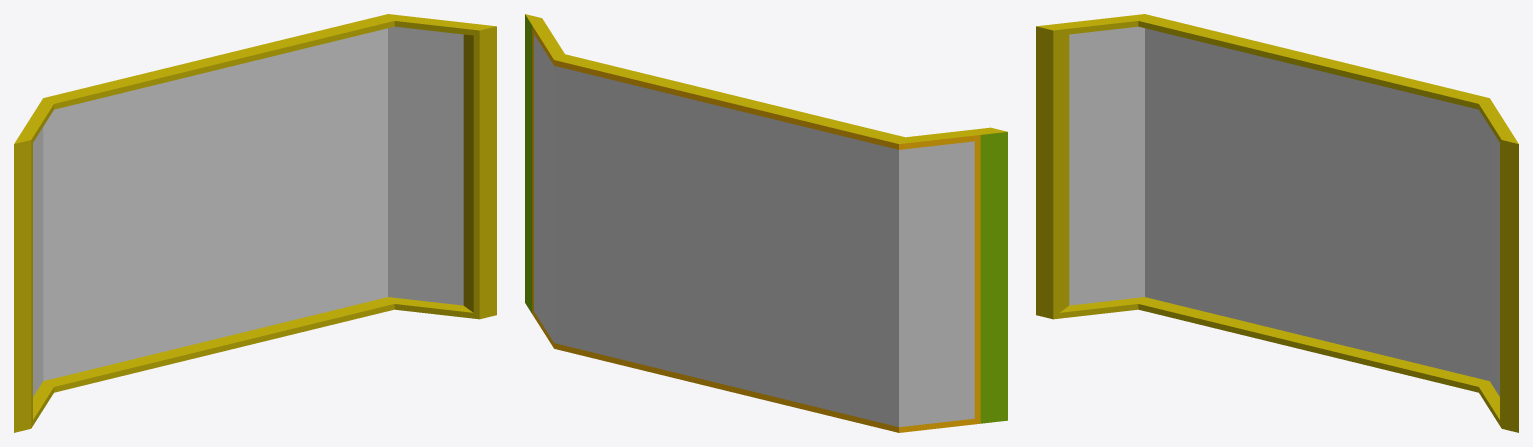
File: window_panoramic_7x1x4.dae
3 renders of one model, left to right at view 1: azimuth 30°, elevation 25°; view 2: azimuth 150°, elevation 25°; view 3: azimuth 330°, elevation 25°, orthographic.
Visible parts, largest first — view 1: Cube; view 2: Cube; view 3: Cube.
Part boxes in pixels (x1,y1,x2,y2): Cube: [14, 14, 496, 432]; Cube: [525, 14, 1007, 432]; Cube: [1036, 14, 1518, 432].
Size of the model in its own units: 1.75 by 0.25 by 1.
